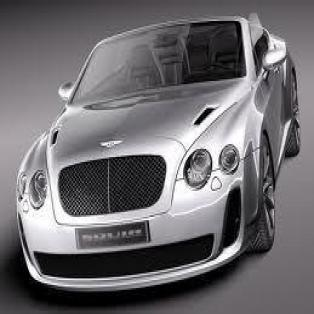Auto: (13, 10, 304, 293)
